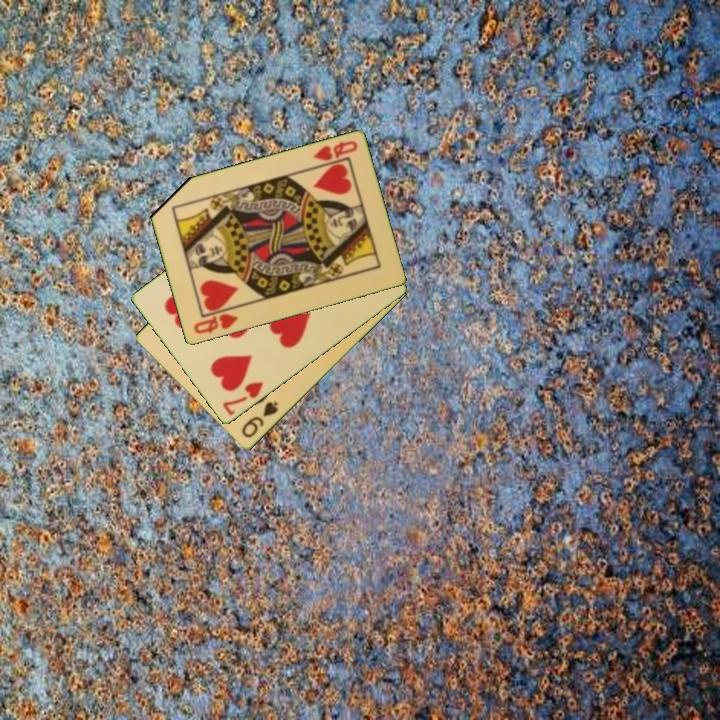7h: (219, 378, 266, 419)
9s: (238, 398, 281, 441)
Qh: (190, 310, 241, 337), (310, 137, 360, 164)
